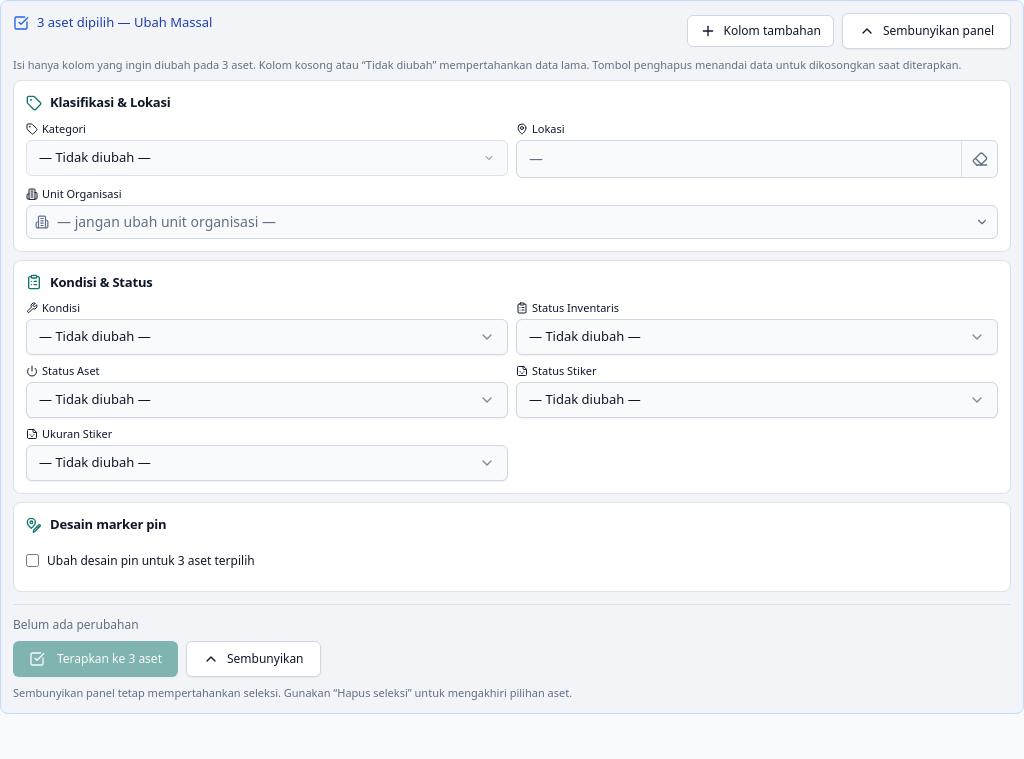
Test case: membatalkan pengaturan marker massal berarti tidak diubah
Expected: the button with test id "batch-unit-pemicu" is shown, [26,205,998,239]
Click the checkbox with test id "batch-marker-enable": (32, 561) [26,554,39,567]
(page scrolled)
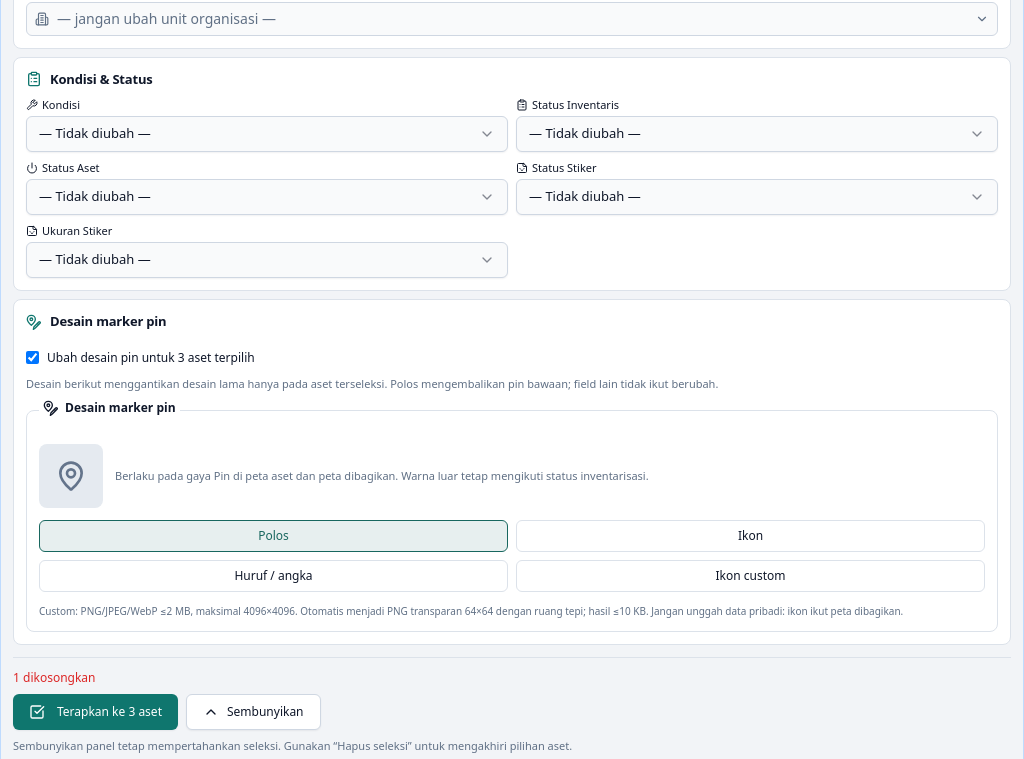
Click the button with test id "marker-mode-text": (274, 576) [39,560,508,592]
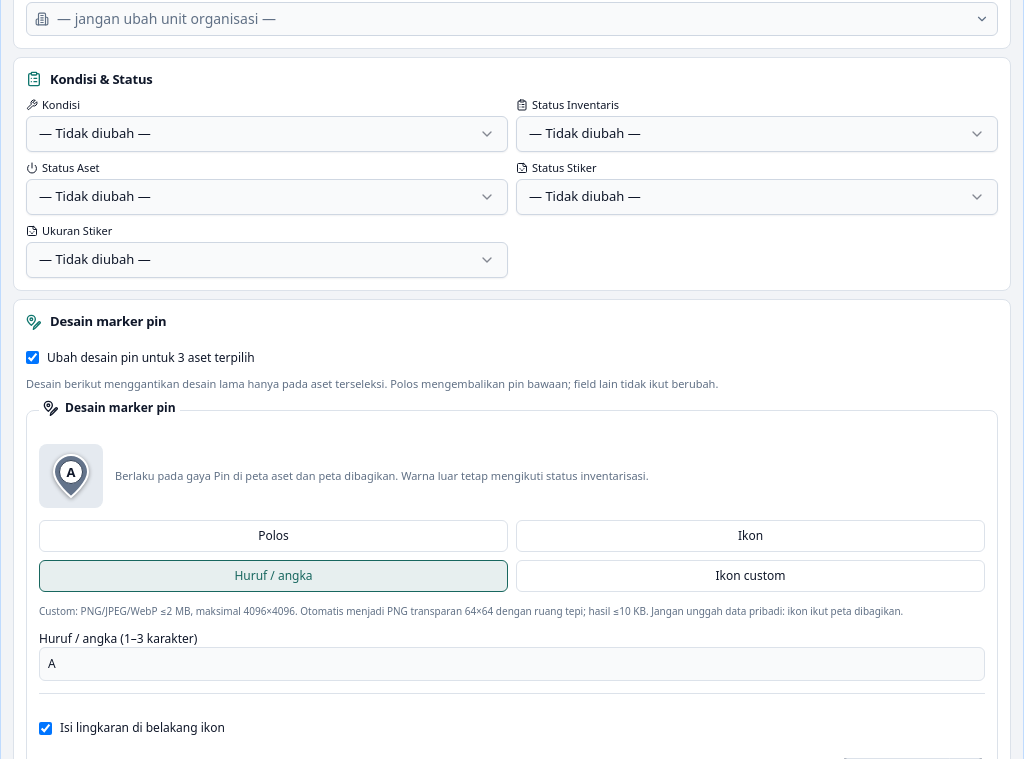
Click the checkbox with test id "batch-marker-enable": (32, 358) [26,351,39,364]
(page scrolled)
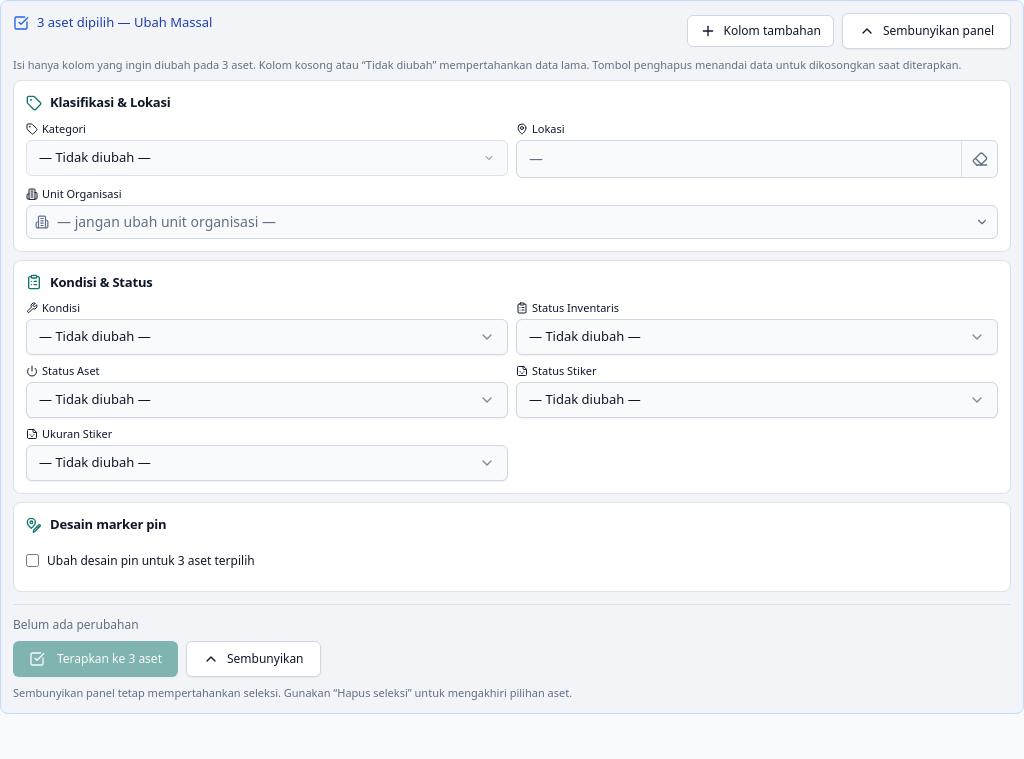
Now the button with test id "batch-apply-btn" is disabled, box [13,641,178,677]
